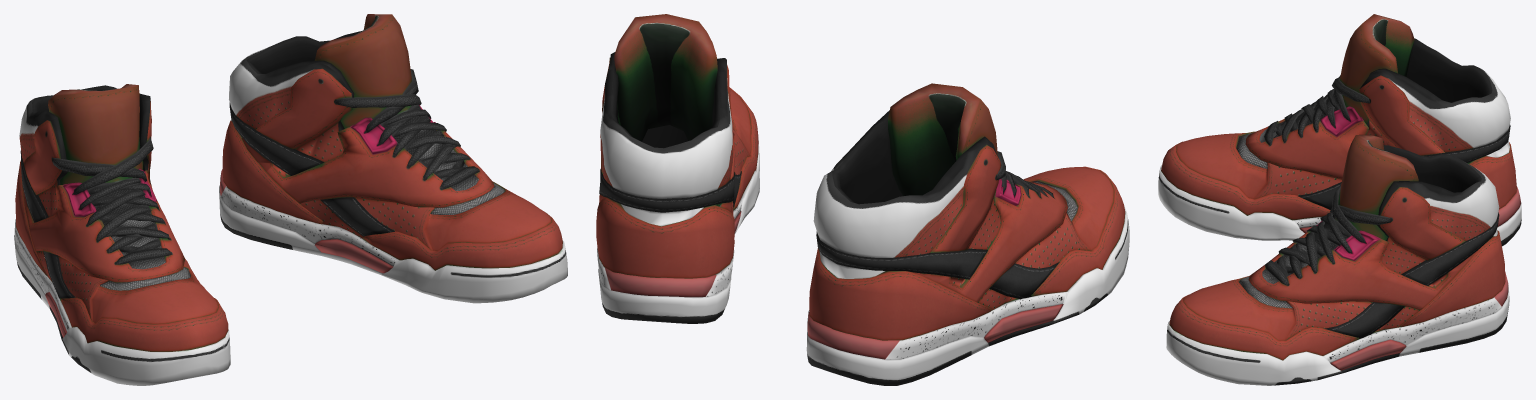
File: brown_sneakers.fbx
3 renders of one model, left to right at view 1: azimuth 30°, elevation 25°; view 2: azimuth 150°, elevation 25°; view 3: azimuth 270°, elevation 25°, orthographic. The views are drawn at different scales.
Visible parts, largest first — view 1: rb1.000, rb1.004; view 2: rb1.004, rb1.000; view 3: rb1.000, rb1.004.
Part boxes in pixels (x1,y1,x2,y2): rb1.000: [219, 14, 567, 303]; rb1.004: [14, 84, 230, 385]; rb1.004: [806, 83, 1129, 385]; rb1.000: [596, 14, 759, 323]; rb1.000: [1166, 134, 1509, 385]; rb1.004: [1158, 14, 1521, 246].
Size of the model in its own units: 23.25 by 10.77 by 17.91.
1 material, 1 textured.
